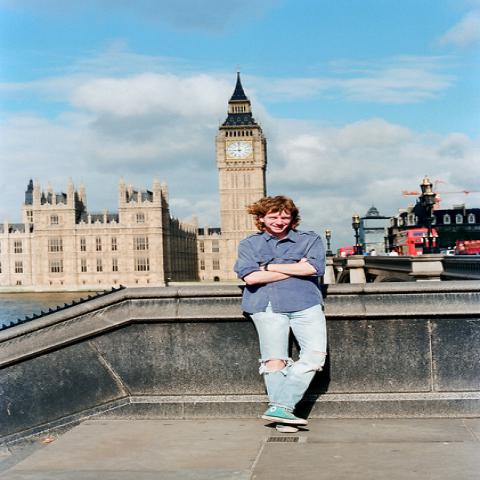bus: (392, 228, 436, 255), (337, 247, 354, 257)
